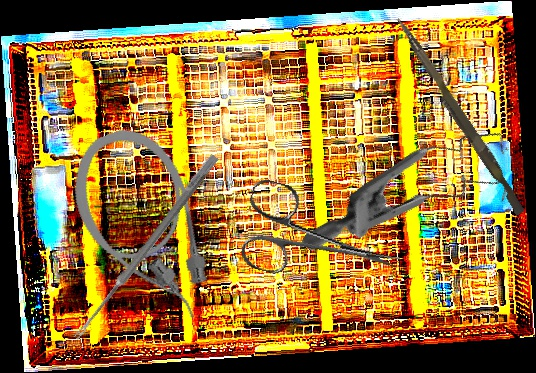Cannula: (57, 116, 228, 342)
Iris Scissors: (233, 176, 411, 305)
Pusher: (388, 16, 530, 216)
Speculum: (300, 75, 534, 325)
Surgical Spoon: (72, 152, 219, 343)
